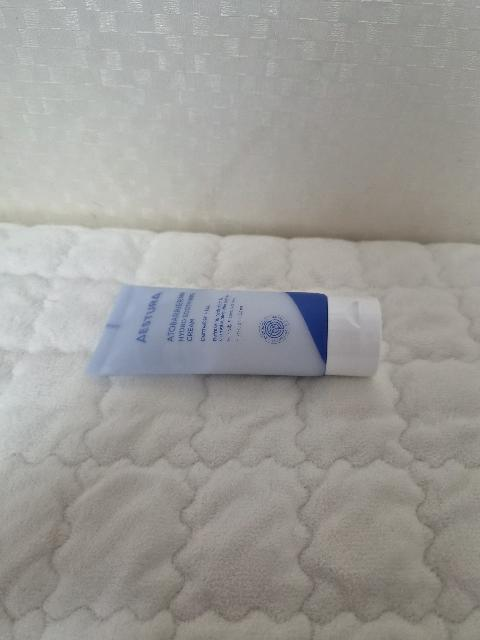handcream: (85, 285, 382, 376)
